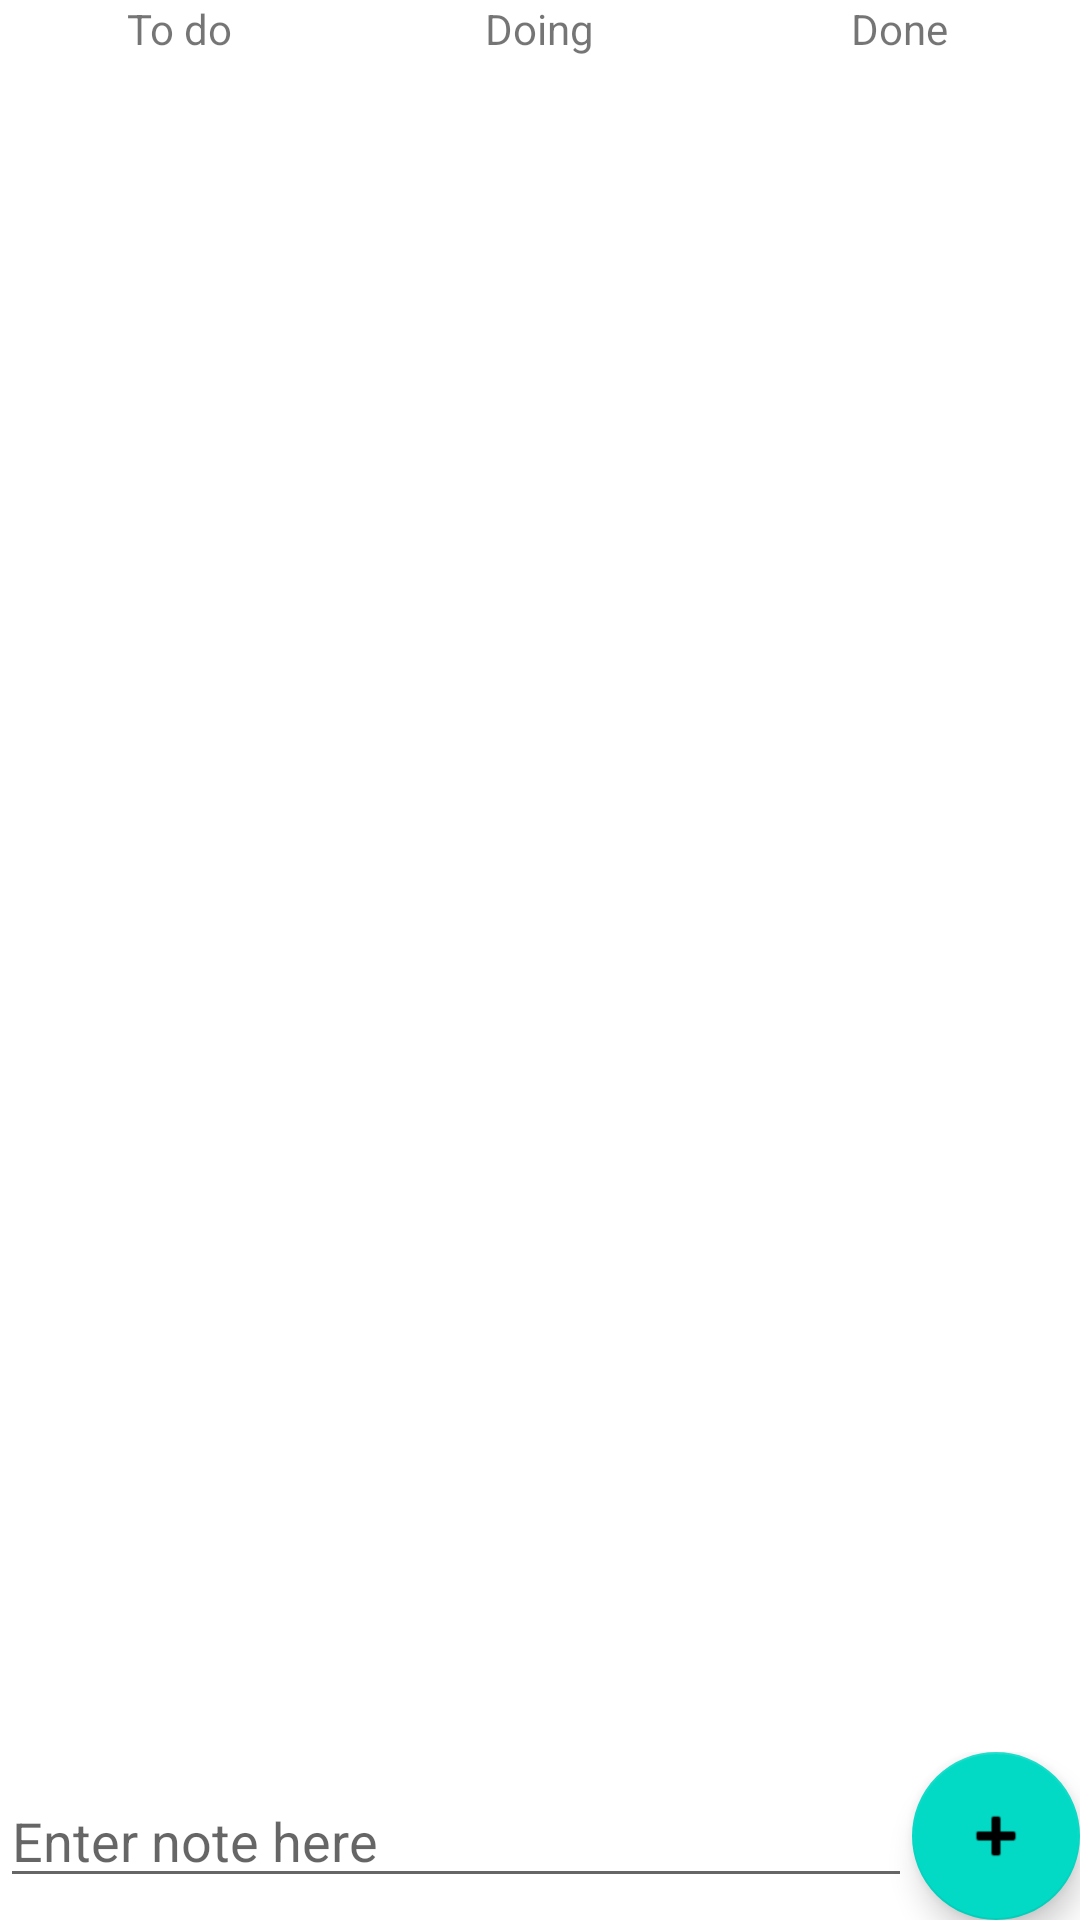

Named icons in this screenshot (1080×1920) and their centers, point (x, y):
Add note button: point (996, 1836)
